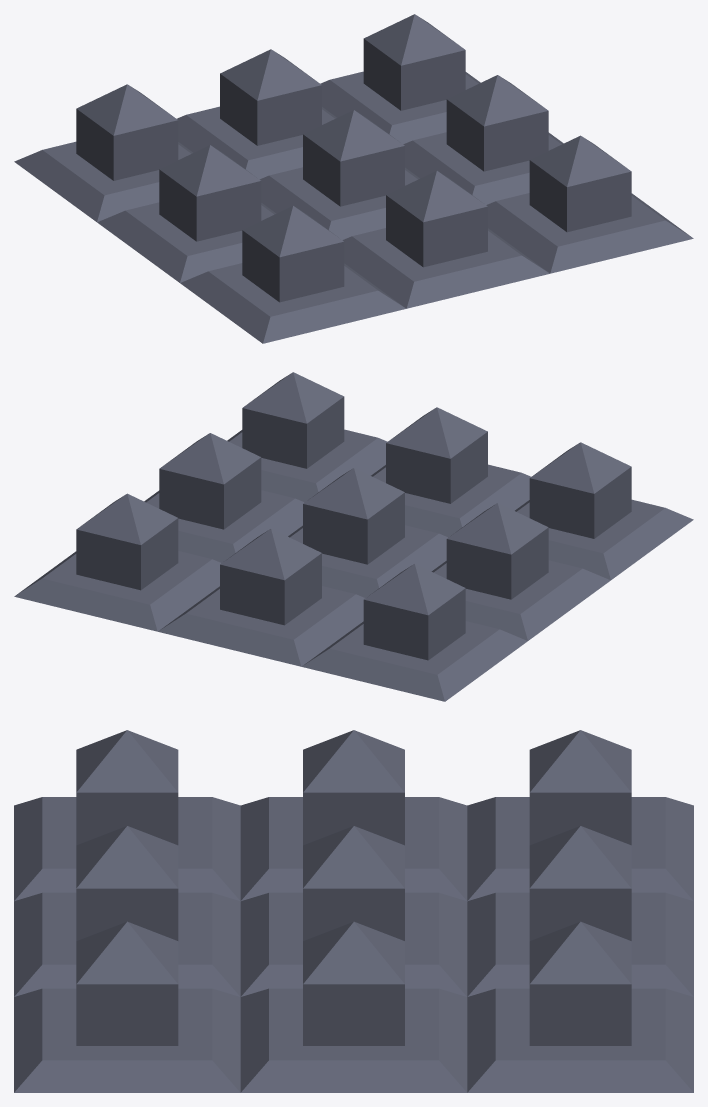
Rendered from SpikeTrap.fbx.
3 views of the same model, one above another, from view 1: azimuth 30°, elevation 25°; view 2: azimuth 150°, elevation 25°; view 3: azimuth 270°, elevation 25° (orthographic). The views are drawn at different scales.
Parts seen in each view (by area): view 1: Spike Trap; view 2: Spike Trap; view 3: Spike Trap.
Boxes of the visible parts, x1,y1,x2,y2 form: Spike Trap: (14,14,693,343); Spike Trap: (14,372,693,701); Spike Trap: (14,730,693,1092).
Bounding box in the file's own units: 3 × 0.6 × 3.
